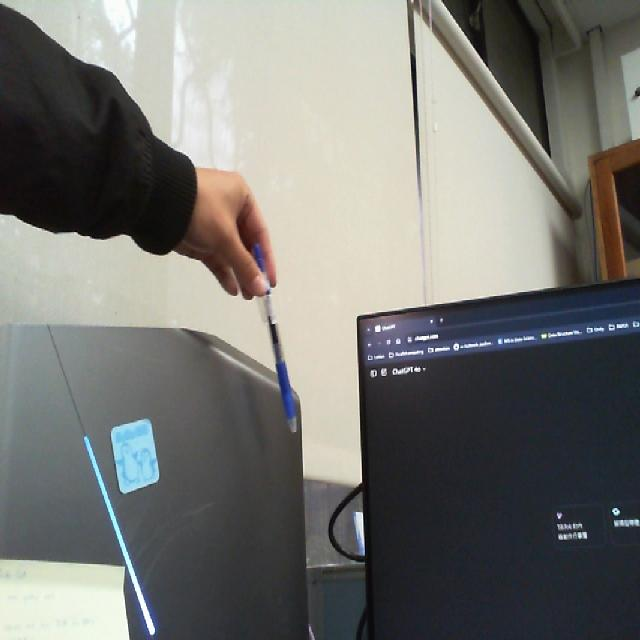Pen: (246, 224, 311, 463)
